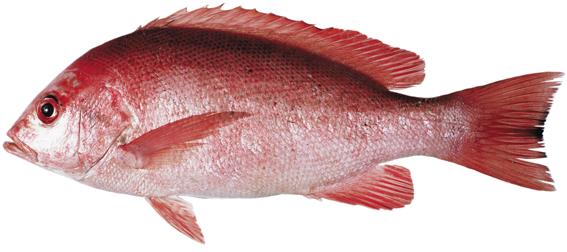fish: (2, 3, 565, 246)
